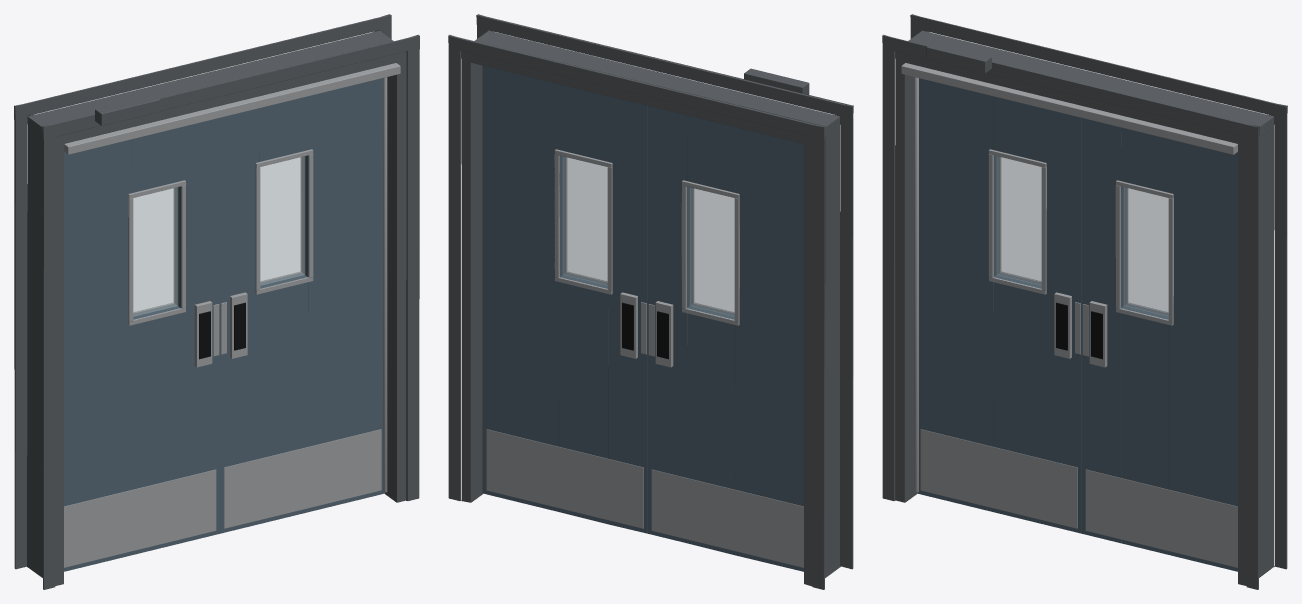
Rendered from DOOR_Secure_Double_1800.glb.
The picture shows the model from 3 angles, left to right: view 1: azimuth 30°, elevation 25°; view 2: azimuth 150°, elevation 25°; view 3: azimuth 330°, elevation 25°; orthographic projection.
Visible parts, largest first — view 1: DOOR_Secure_Double_1800_Leaf_R, DOOR_Secure_Double_1800_Leaf_L, DOOR_Secure_Double_1800_Frame; view 2: DOOR_Secure_Double_1800_Leaf_R, DOOR_Secure_Double_1800_Leaf_L, DOOR_Secure_Double_1800_Frame; view 3: DOOR_Secure_Double_1800_Leaf_L, DOOR_Secure_Double_1800_Leaf_R, DOOR_Secure_Double_1800_Frame.
Boxes of the visible parts, bbox=[...] form: DOOR_Secure_Double_1800_Leaf_R: bbox=[220, 77, 387, 533]; DOOR_Secure_Double_1800_Leaf_L: bbox=[64, 118, 219, 571]; DOOR_Secure_Double_1800_Frame: bbox=[14, 14, 419, 589]; DOOR_Secure_Double_1800_Leaf_R: bbox=[482, 65, 647, 533]; DOOR_Secure_Double_1800_Leaf_L: bbox=[648, 106, 803, 571]; DOOR_Secure_Double_1800_Frame: bbox=[448, 14, 853, 589]; DOOR_Secure_Double_1800_Leaf_L: bbox=[914, 77, 1081, 533]; DOOR_Secure_Double_1800_Leaf_R: bbox=[1082, 118, 1237, 571]; DOOR_Secure_Double_1800_Frame: bbox=[882, 14, 1287, 589].
Size of what is drawn, in the model's own units: 1.92 by 2.29 by 0.32.
